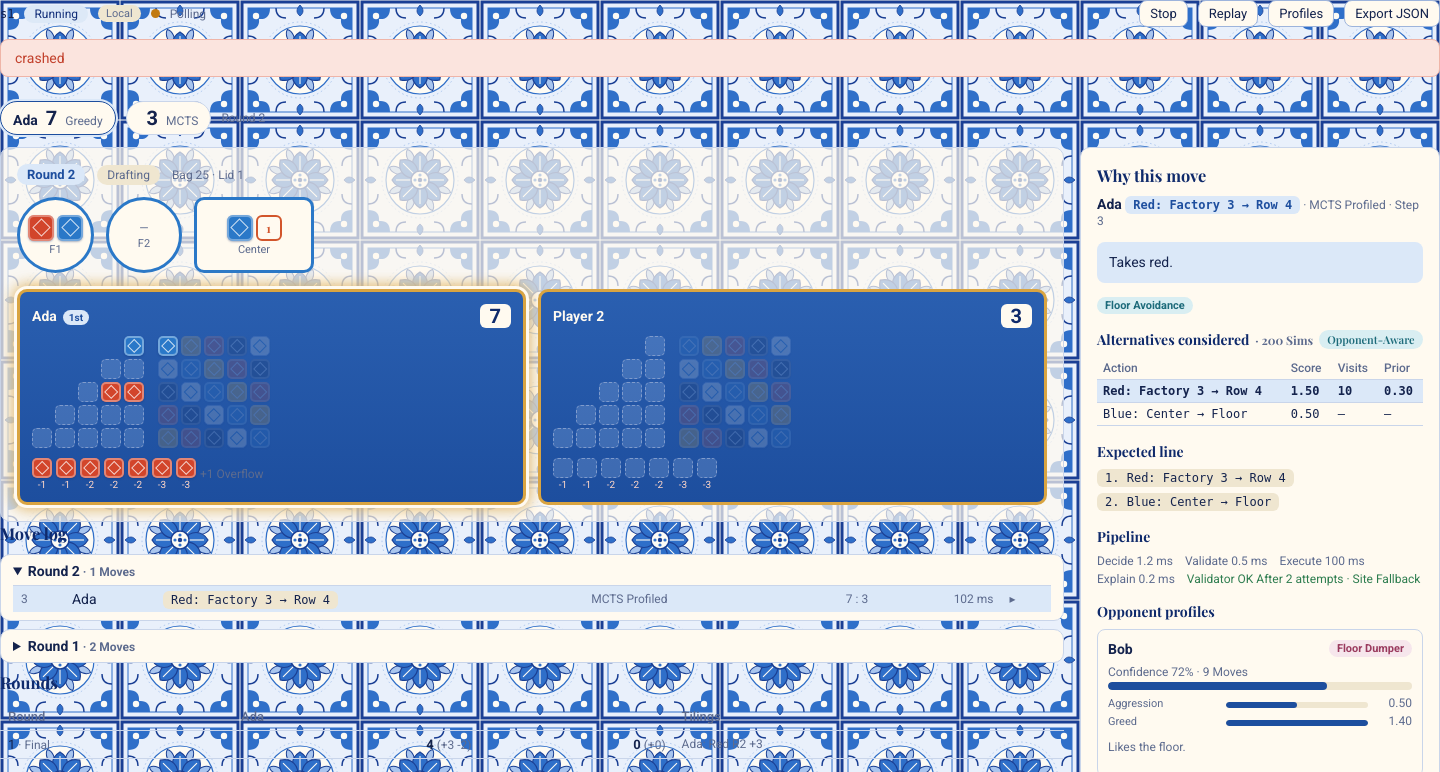
Test: Monitor › reports stop failures and load errors
The image size is (1440, 772).
Click the button "Stop" at (1164, 14), box [1139, 0, 1188, 27]
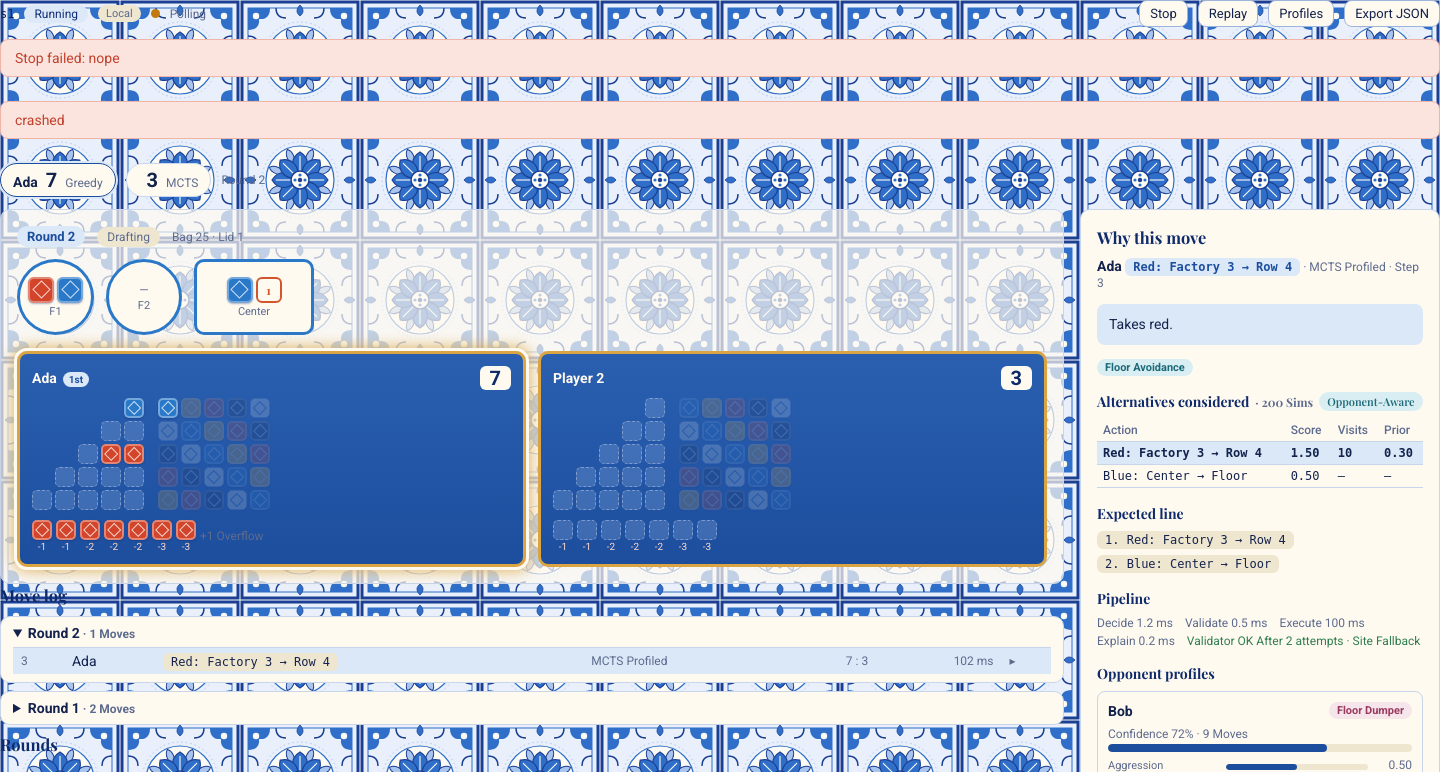
Expected: the text "crashed" is shown, [0, 101, 1439, 139]
Now the text "Stop failed: nope" is shown, box [0, 39, 1439, 77]
